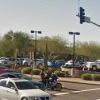Traffic light: (73, 4, 94, 29)
